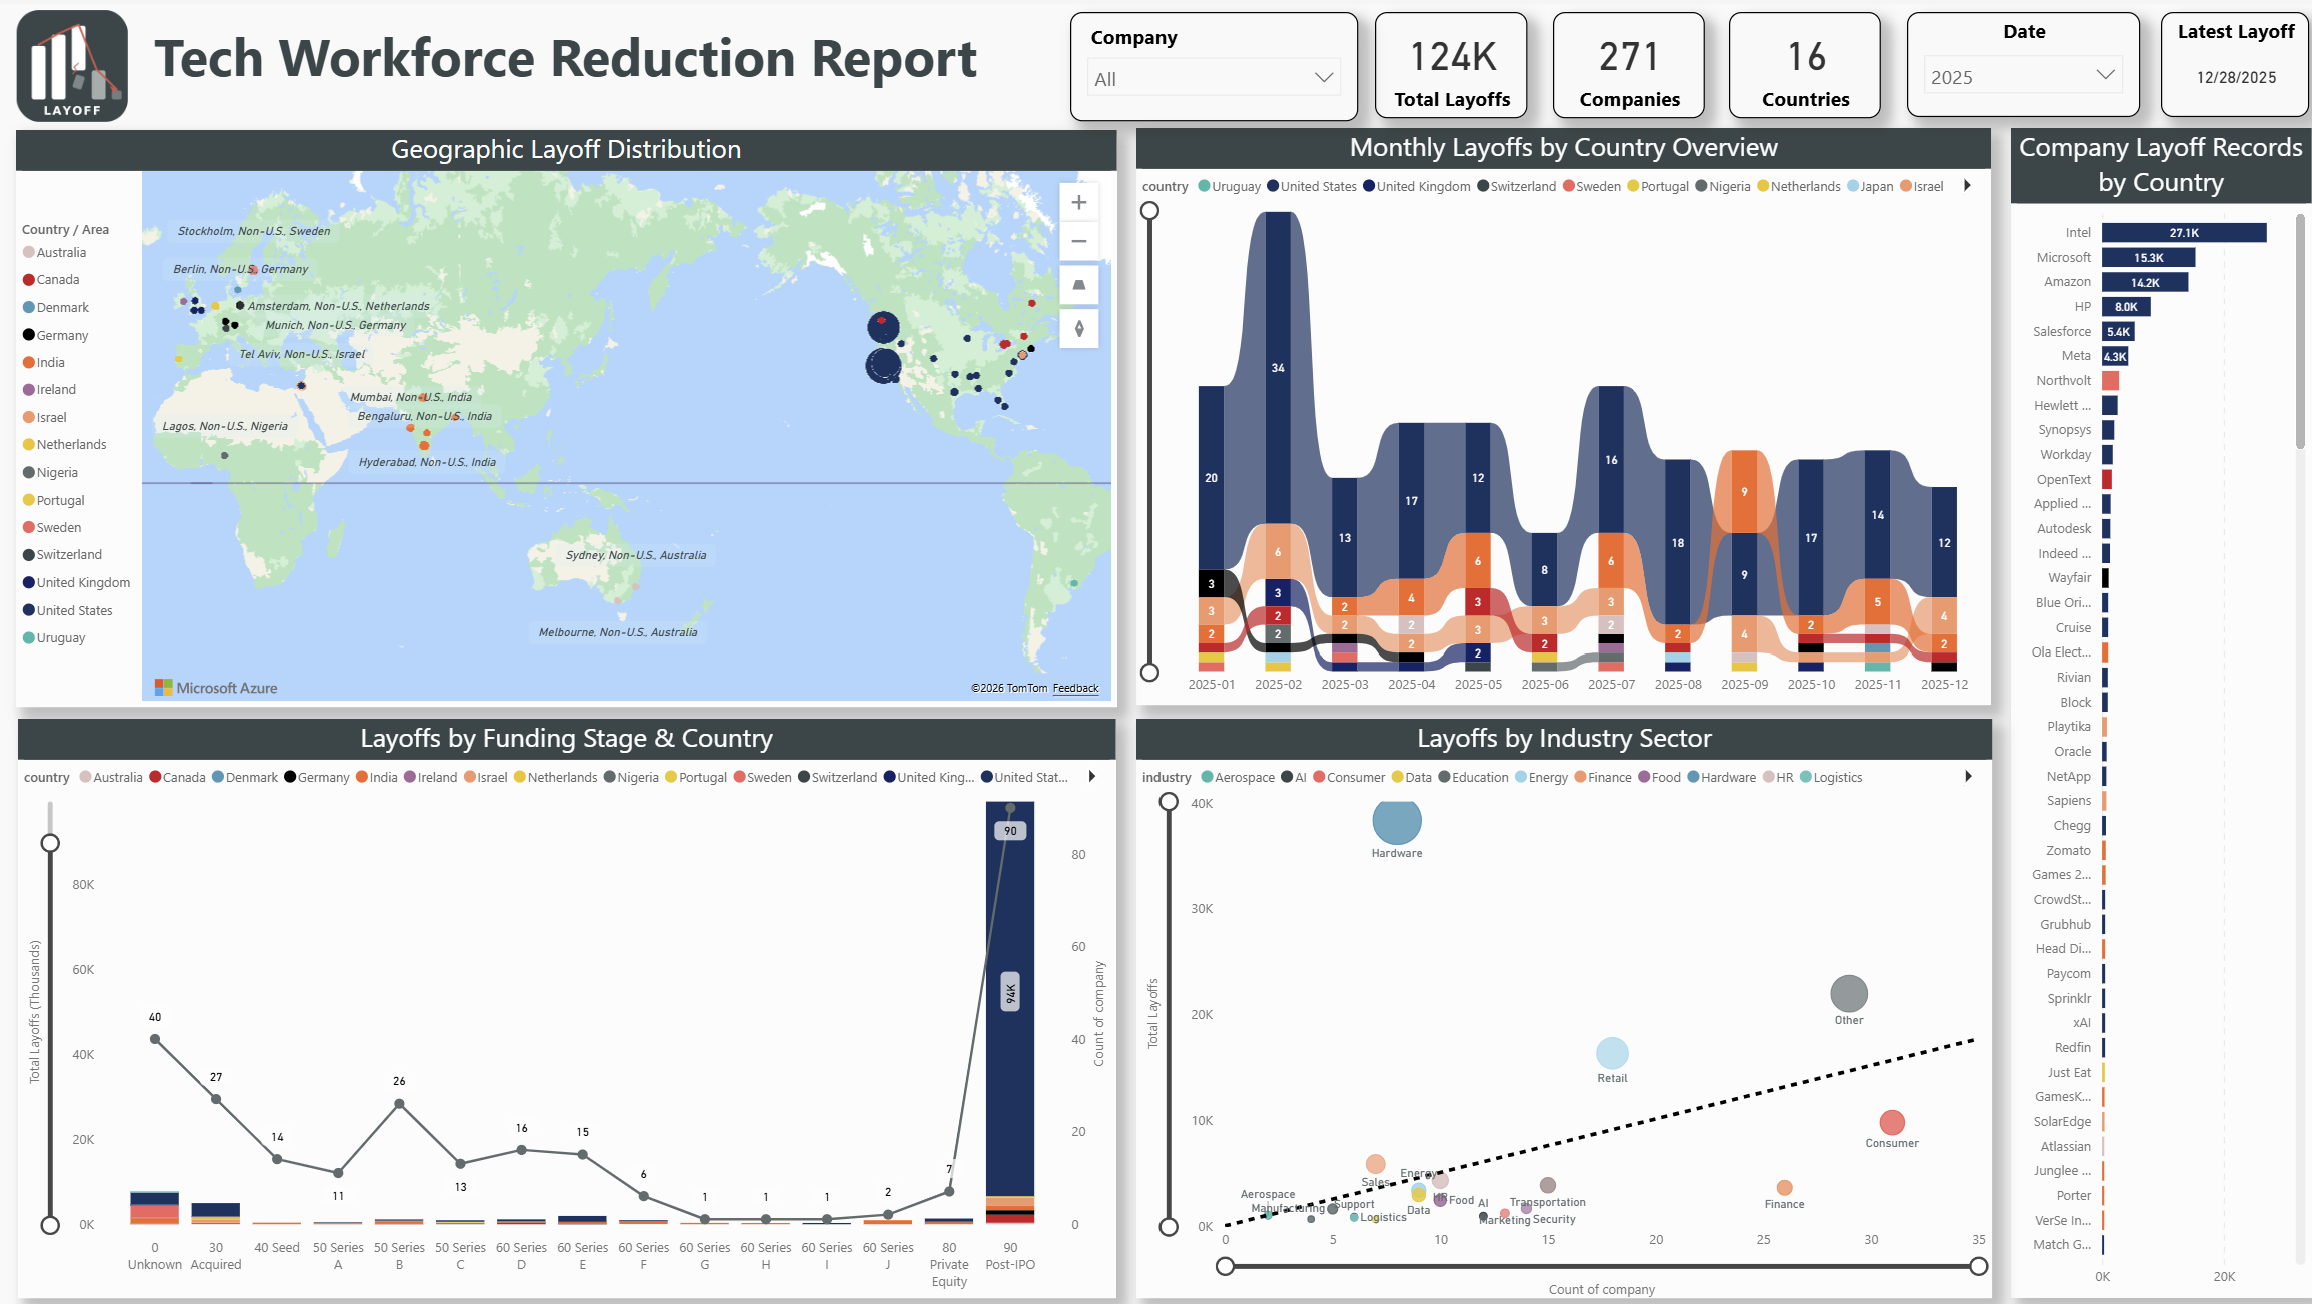

Layout of this report page (visuals, bound fields, positions):
{"tool":"powerbi","page":{"name":"Workforce Reduction Report","canvas":[1920,1080],"ordinal":0},"visuals":[{"type":"azureMap","title":"Geographic Layoff Distribution","fields":{"Series":["layoffs.country"],"Size":["Sum(layoffs.total_laid_off)"],"Category":["layoffs.location"]},"box":[16.5,102.9,906.1,474.7],"z":0},{"type":"ribbonChart","title":"Monthly Layoffs by Country Overview","fields":{"Category":["DateTable.Date Hierarchy.Year","DateTable.Date Hierarchy.Qty","DateTable.Date Hierarchy.Mon","DateTable.Date Hierarchy.Week"],"Y":["Count(layoffs.company)"],"Series":["layoffs.country"]},"box":[938.6,102.8,702.9,474.7],"z":1000},{"type":"lineStackedColumnComboChart","title":"Layoffs by Funding Stage & Country","fields":{"Category":["layoffs.Stage Ranking","layoffs.stage"],"Y2":["Count(layoffs.company)"],"Series":["layoffs.country"],"Y":["Sum(layoffs.total_laid_off)"]},"box":[17.6,588.5,903.3,477.1],"z":3000},{"type":"barChart","title":"Company Layoff Records by Country","fields":{"Category":["layoffs.company"],"Series":["layoffs.country"],"Y":["Sum(layoffs.total_laid_off)"]},"box":[1657.3,102.7,247.3,962],"z":4000},{"type":"card","fields":{"Values":["Sum(layoffs.total_laid_off)"]},"box":[1133.5,6.7,125.6,87.7],"z":5000},{"type":"card","fields":{"Values":["Count(layoffs.company)"]},"box":[1280.2,6.7,124.9,87.7],"z":6000},{"type":"card","fields":{"Values":["Count(layoffs.country)"]},"box":[1426.2,6.7,124.9,87.7],"z":7000},{"type":"card","title":"Latest Layoff","fields":{"Values":["Max(layoffs.date)"]},"box":[1781,7.2,122.2,86.3],"z":8000},{"type":"slicer","fields":{"Values":["layoffs.company"]},"box":[883.7,5.9,236.6,89.9],"z":9000},{"type":"slicer","title":"Date","fields":{"Values":["DateTable.Date Hierarchy.Year","DateTable.Date Hierarchy.Qty","DateTable.Date Hierarchy.Mon","DateTable.Date Hierarchy.Week"]},"box":[1572.4,7.2,191.8,86.3],"z":10000},{"type":"scatterChart","title":"Layoffs by Industry Sector","fields":{"Size":["Sum(layoffs.total_laid_off)"],"X":["layoffs.company"],"Y":["Sum(layoffs.total_laid_off)"],"Series":["layoffs.industry"]},"box":[938.5,588.5,703.9,477.1],"z":11000},{"type":"textbox","box":[125.5,7.8,743.1,86.3],"z":12000},{"type":"image","box":[0,0,125.5,102],"z":13000}]}

Visuals, with their boxes in screenshot pixels (x1, y1, x2, y2), scaled from the page's 1920x1080 canvas onto the 2312x1304 screenshot:
"Geographic Layoff Distribution" azureMap: <bbox>20, 124, 1111, 697</bbox>
"Monthly Layoffs by Country Overview" ribbonChart: <bbox>1130, 124, 1977, 697</bbox>
"Layoffs by Funding Stage & Country" lineStackedColumnComboChart: <bbox>21, 711, 1109, 1287</bbox>
"Company Layoff Records by Country" barChart: <bbox>1996, 124, 2293, 1286</bbox>
card - Sum(layoffs.total_laid_off): <bbox>1365, 8, 1516, 114</bbox>
card - Count(layoffs.company): <bbox>1542, 8, 1692, 114</bbox>
card - Count(layoffs.country): <bbox>1717, 8, 1868, 114</bbox>
"Latest Layoff" card: <bbox>2145, 9, 2292, 113</bbox>
slicer - layoffs.company: <bbox>1064, 7, 1349, 116</bbox>
"Date" slicer: <bbox>1893, 9, 2124, 113</bbox>
"Layoffs by Industry Sector" scatterChart: <bbox>1130, 711, 1978, 1287</bbox>
textbox: <bbox>151, 9, 1046, 114</bbox>
image: <bbox>0, 0, 151, 123</bbox>
